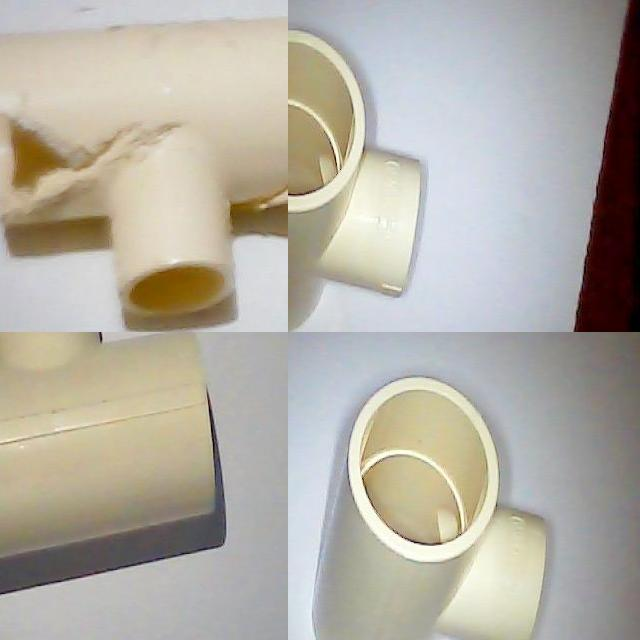Defective: (0, 78, 123, 226), (230, 134, 288, 225)
T Joint: (0, 18, 288, 320), (310, 376, 553, 640), (288, 31, 429, 332)
